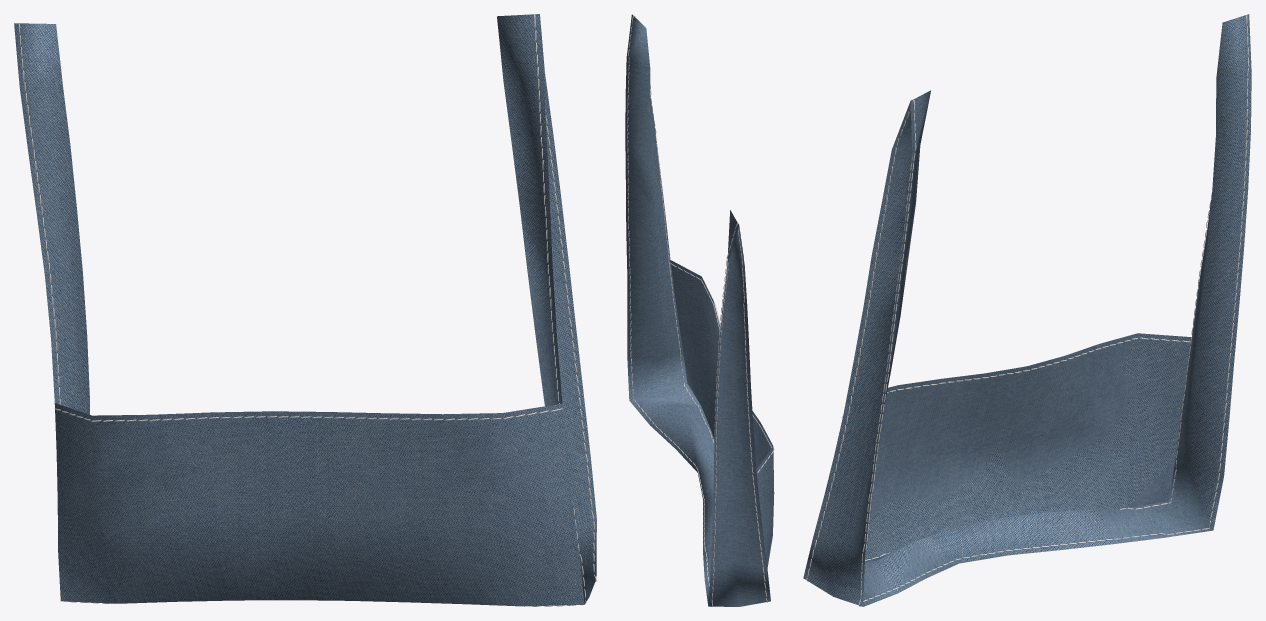
File: sz2youqdouxq.glb
3 renders of one model, left to right at view 1: azimuth 30°, elevation 25°; view 2: azimuth 150°, elevation 25°; view 3: azimuth 270°, elevation 25°, orthographic. The views are drawn at different scales.
Visible parts, largest first — view 1: sz2youqdouxq, _1; view 2: sz2youqdouxq, _1; view 3: sz2youqdouxq, _1.
Boxes of the visible parts, <box> form: sz2youqdouxq: <box>14,14,596,606</box>; _1: <box>18,14,596,606</box>; sz2youqdouxq: <box>625,14,774,606</box>; _1: <box>627,15,774,606</box>; sz2youqdouxq: <box>803,14,1251,606</box>; _1: <box>806,15,1248,606</box>.
Bounding box in the file's own units: 1.22 × 1.96 × 1.44.
Materials: 2 (2 with a texture image).
